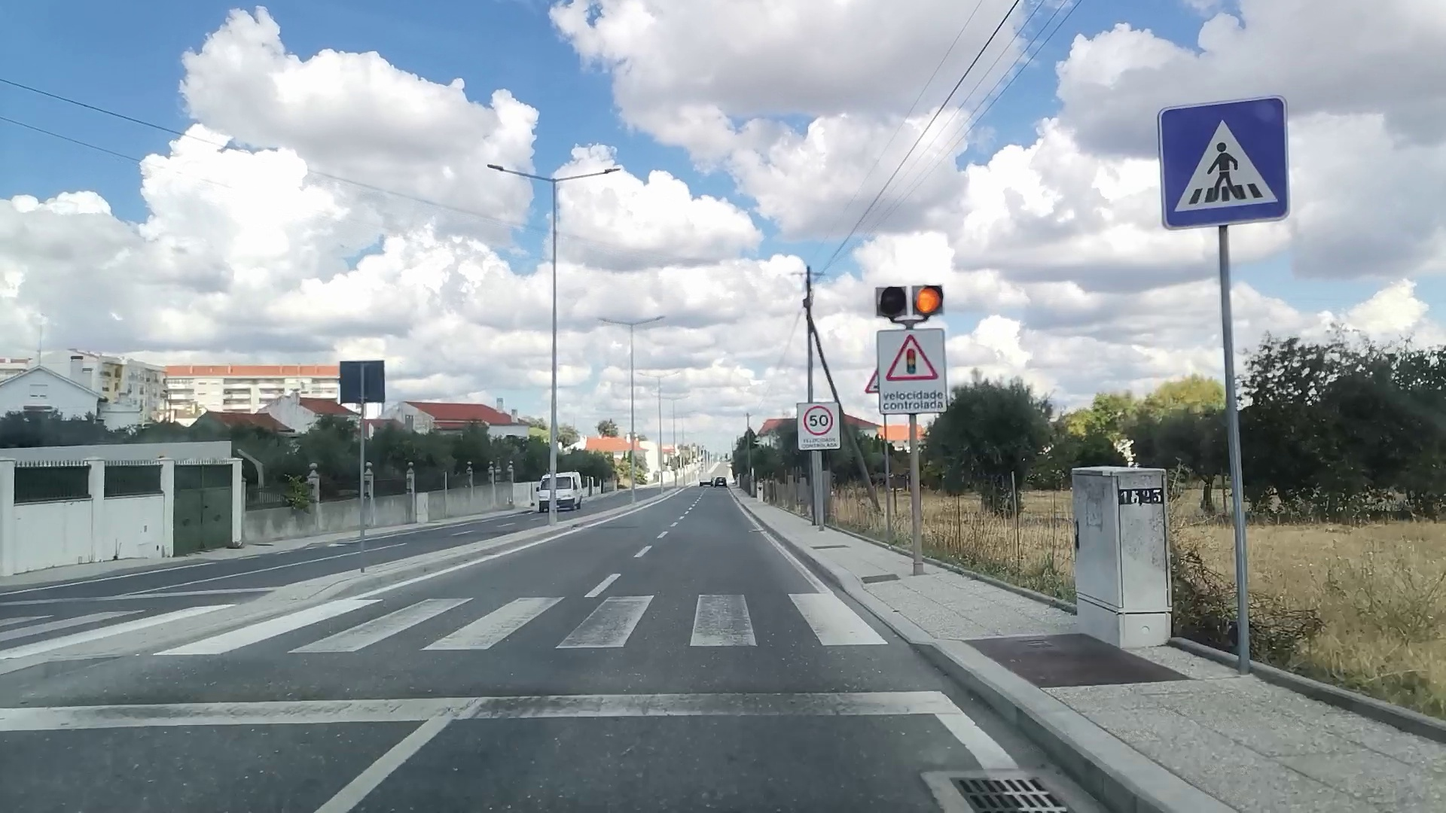Stairs: (158, 590, 895, 652)
